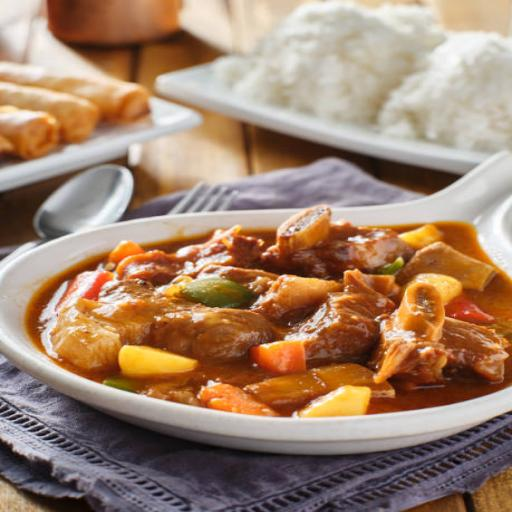pork caldereta: (53, 225, 512, 425)
